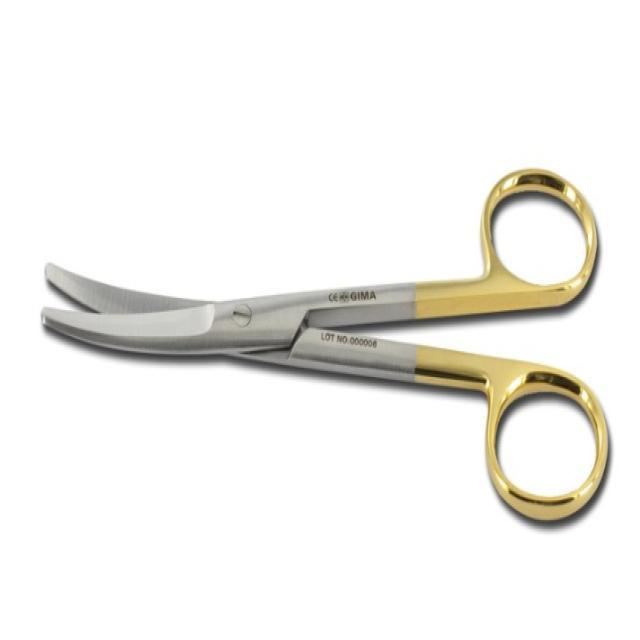Curved Mayo: (41, 169, 615, 534)
